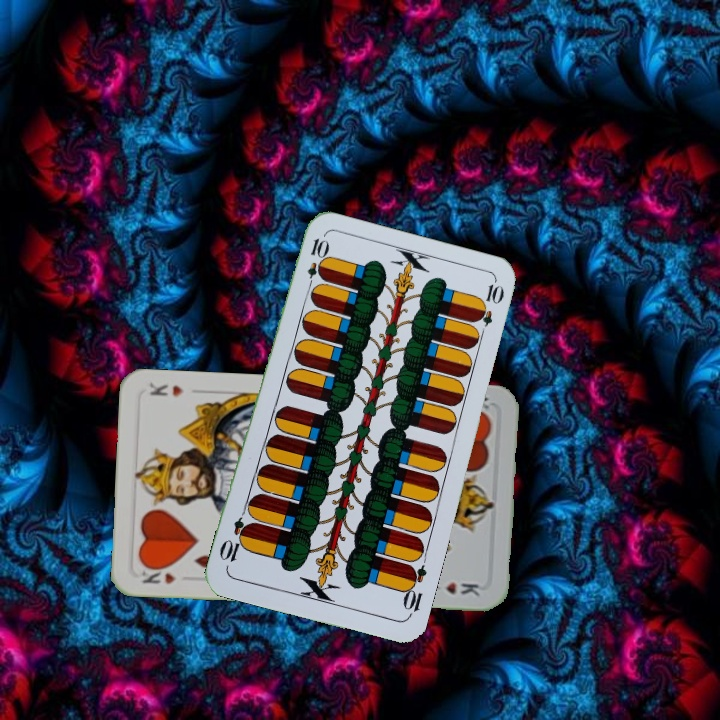E10: (399, 561, 429, 620), (303, 234, 329, 293)
HK: (135, 561, 178, 587)
